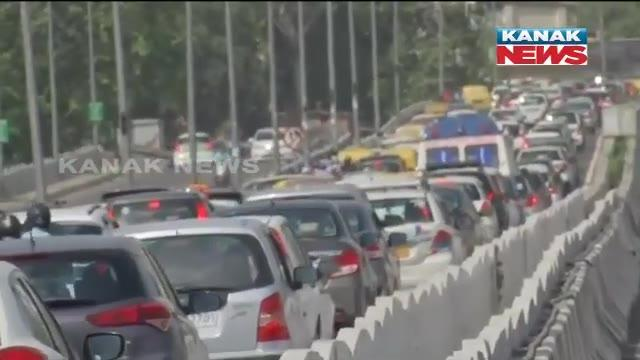AMBULANCE: (415, 110, 506, 164)
